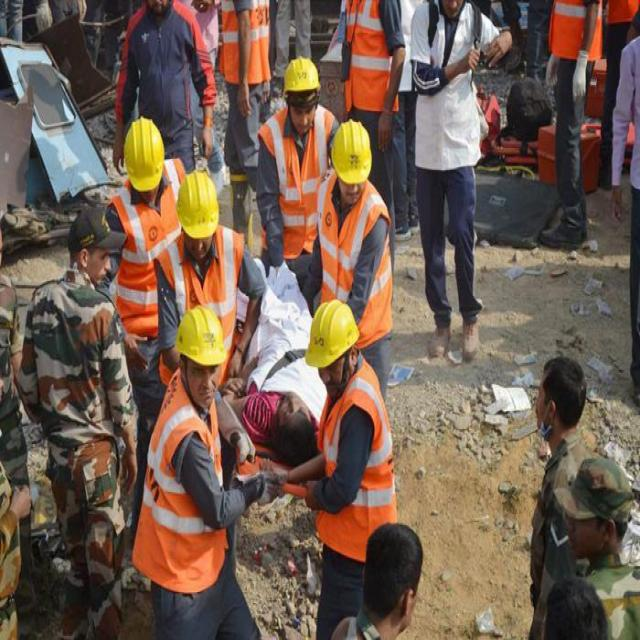Reflective-Jacket: (137, 396, 229, 592), (317, 369, 397, 552), (318, 185, 395, 347), (162, 229, 245, 362), (263, 108, 334, 260), (113, 189, 163, 340), (216, 1, 279, 92), (342, 1, 391, 108), (549, 1, 588, 62)
Safety-Helmet: (304, 296, 361, 369), (121, 115, 166, 193), (174, 303, 228, 366), (176, 168, 220, 242), (329, 118, 373, 185), (282, 54, 322, 93)
